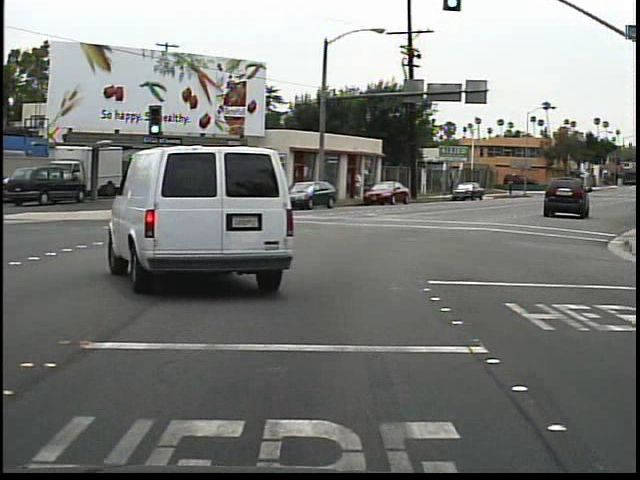person: (349, 166, 364, 201), (505, 175, 516, 198)
